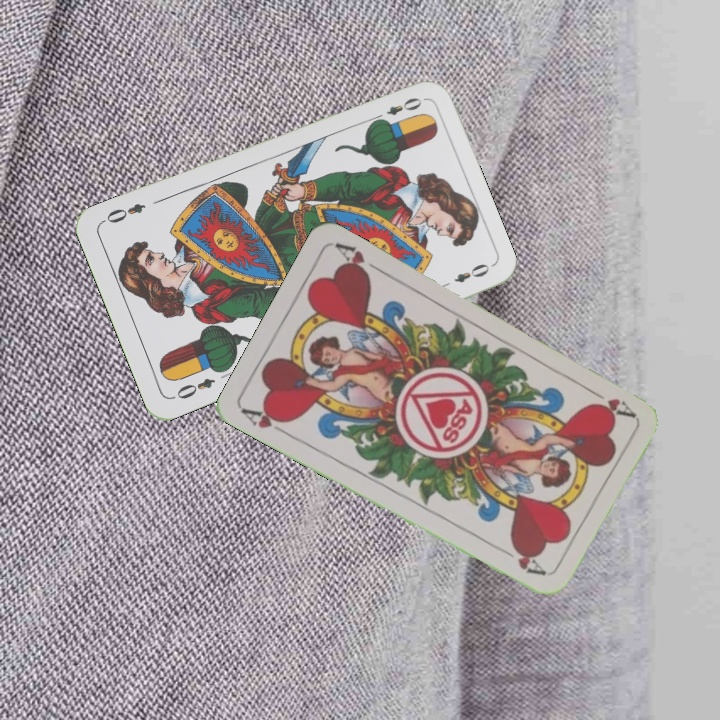EO: (369, 93, 425, 125), (172, 374, 218, 402)
HA: (238, 403, 294, 440), (583, 384, 637, 420)
